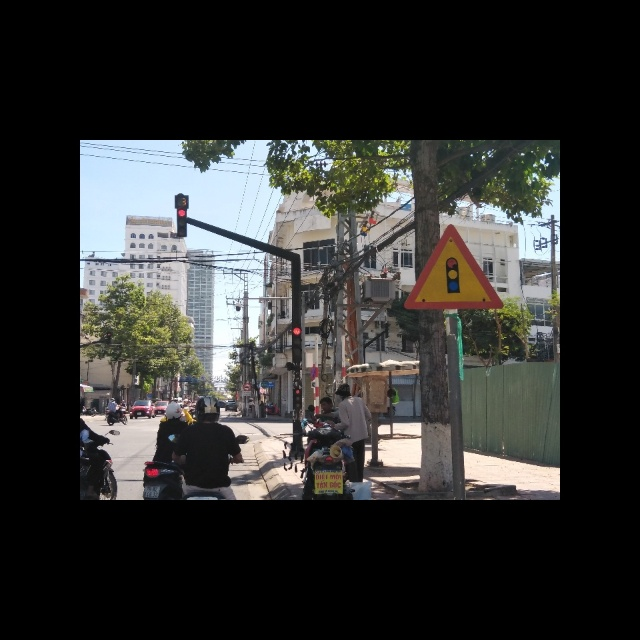Giao nhau có tín hiệu đèn: (401, 222, 505, 310)
Đèn đỏ: (292, 326, 302, 336)
